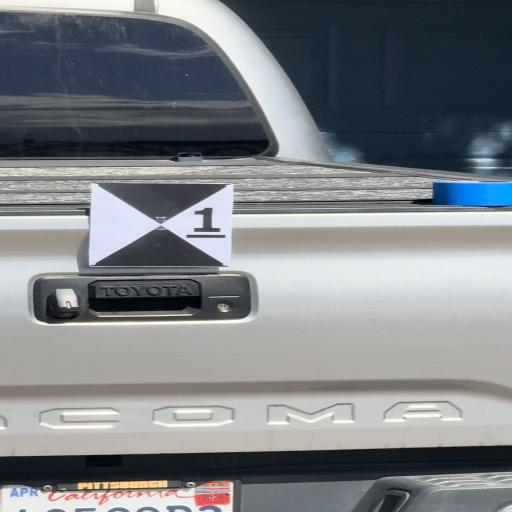target1: (96, 184, 229, 265)
